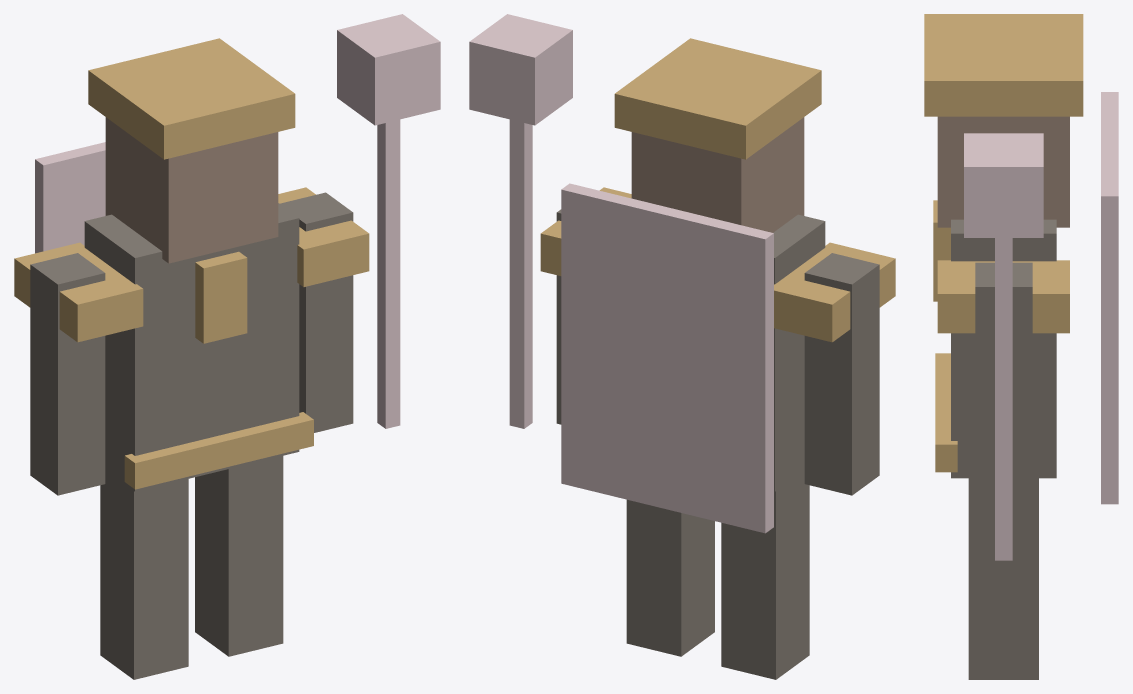
The model's file is 10_keir_ironwake_marshal_at_humming.glb.
3 views of the same model, side by side, from view 1: azimuth 30°, elevation 25°; view 2: azimuth 150°, elevation 25°; view 3: azimuth 270°, elevation 25° (orthographic). The views are drawn at different scales.
Visible parts, largest first — view 1: Keir Ironwake, Marshal at Humming; view 2: Keir Ironwake, Marshal at Humming; view 3: Keir Ironwake, Marshal at Humming.
Boxes of the visible parts, <box> form: Keir Ironwake, Marshal at Humming: <box>14,14,440,679</box>; Keir Ironwake, Marshal at Humming: <box>469,14,895,679</box>; Keir Ironwake, Marshal at Humming: <box>924,14,1118,679</box>.
Bounding box in the file's own units: 1.12 × 1.6 × 0.4751.
